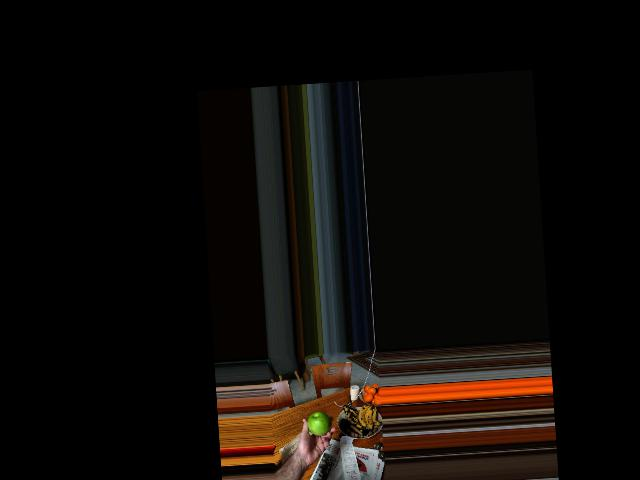apple: (307, 411, 331, 437)
